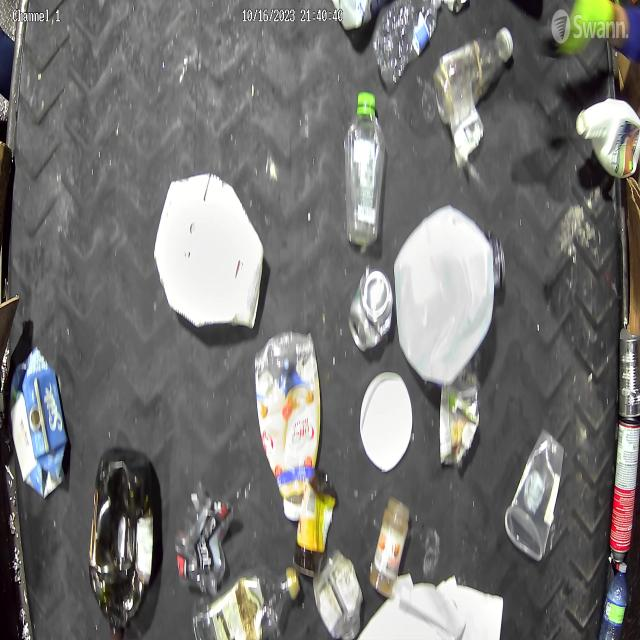can: (610, 416, 640, 571), (348, 265, 394, 354), (617, 324, 640, 422), (488, 230, 506, 292)
milk_jug: (393, 202, 496, 388)
non_white_jug: (86, 444, 156, 640)
plastic_bottle: (190, 564, 301, 640), (434, 26, 514, 126), (343, 89, 386, 251), (372, 0, 442, 91), (597, 561, 627, 640)
